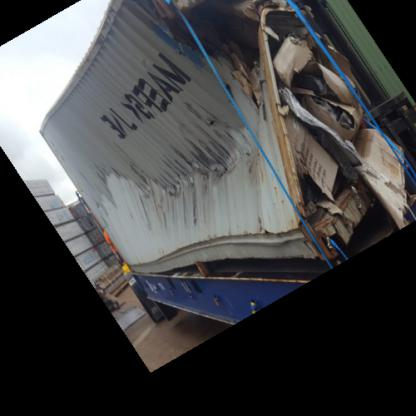Damage: (57, 1, 405, 274)
